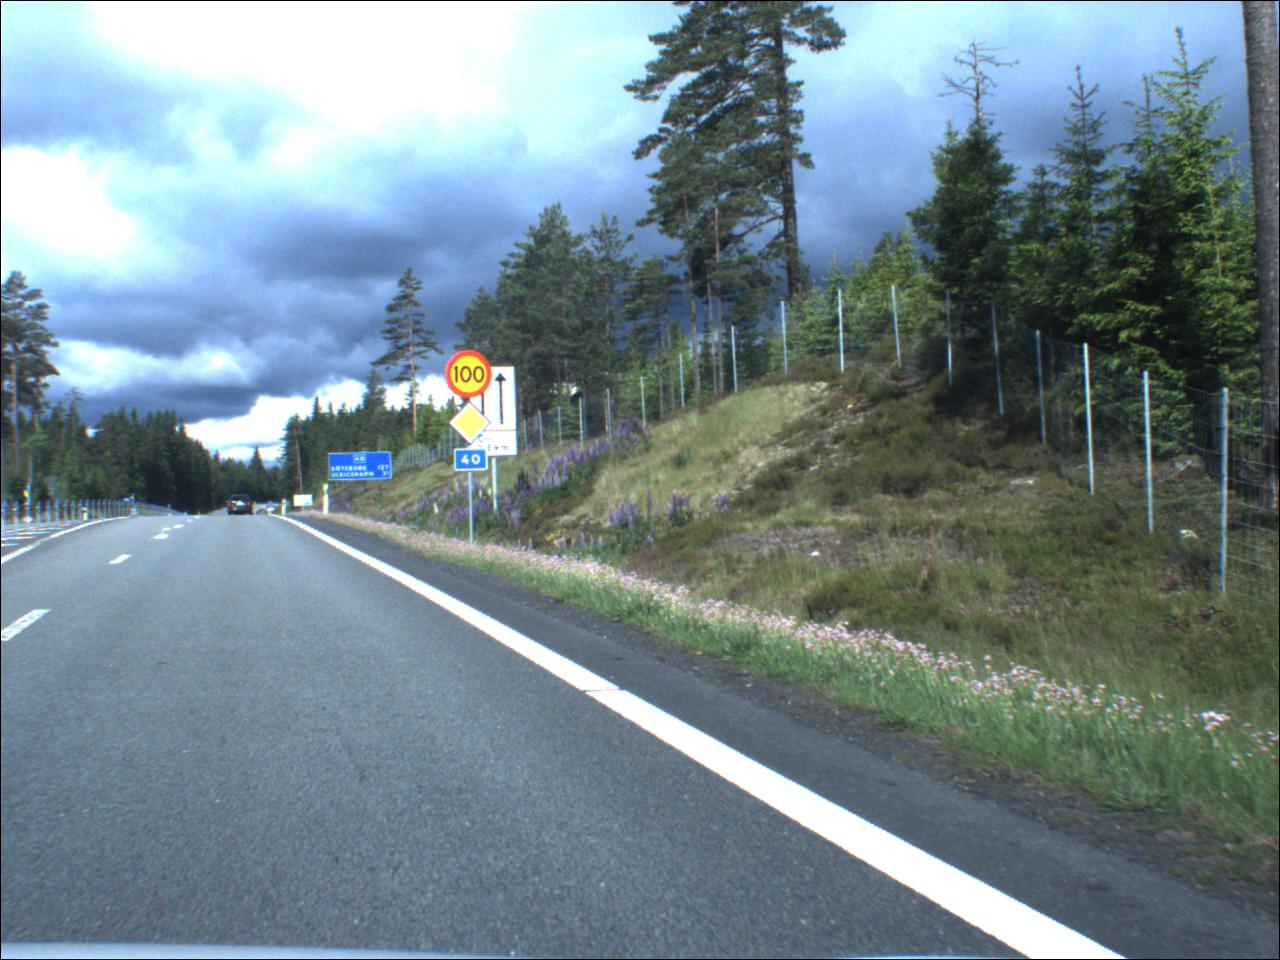100_SIGN: (447, 351, 496, 399)
PRIORITY_ROAD: (449, 402, 495, 448)
